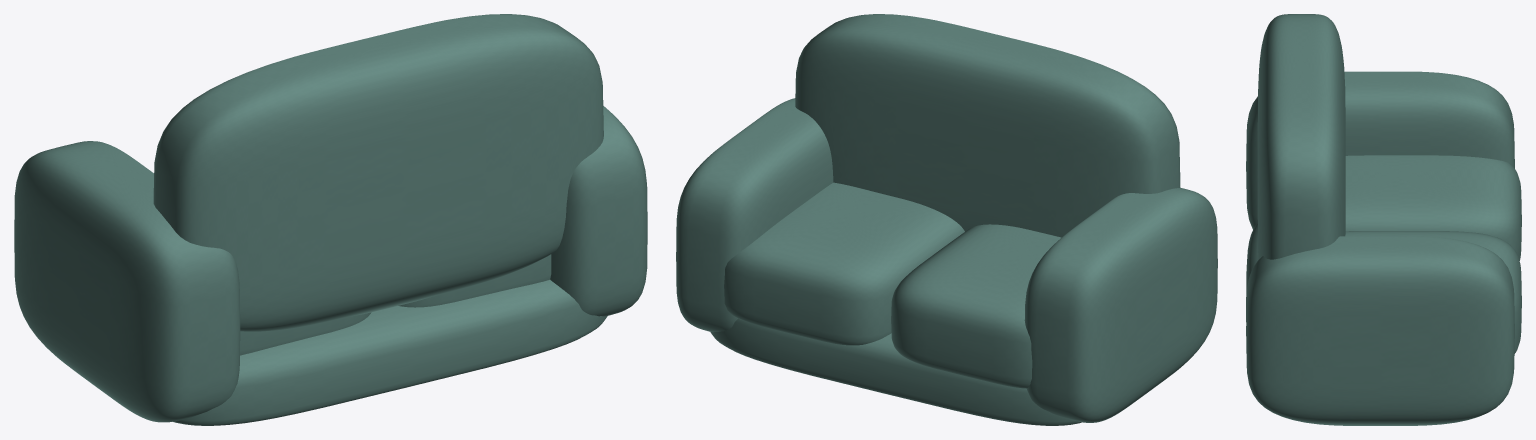
Rendered from fabric-pillow.fbx.
3 renders of one model, left to right at view 1: azimuth 30°, elevation 25°; view 2: azimuth 150°, elevation 25°; view 3: azimuth 270°, elevation 25°, orthographic. The views are drawn at different scales.
Parts seen in each view (by area): view 1: FabricPillow; view 2: FabricPillow; view 3: FabricPillow.
Part boxes in pixels (x1,y1,x2,y2): FabricPillow: (14, 14, 647, 425); FabricPillow: (676, 14, 1217, 425); FabricPillow: (1246, 14, 1521, 425).
Bounding box in the file's own units: 2.08 × 1.34 × 1.19.
Materials: 1 (1 with a texture image).
